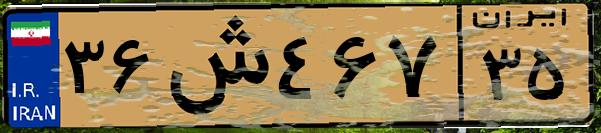3: (57, 26, 110, 100), (475, 38, 525, 113)
4: (270, 28, 330, 110)
5: (525, 38, 570, 115)
6: (330, 28, 385, 110), (110, 28, 158, 98)
7: (385, 28, 445, 110)
ش: (158, 12, 270, 120)
